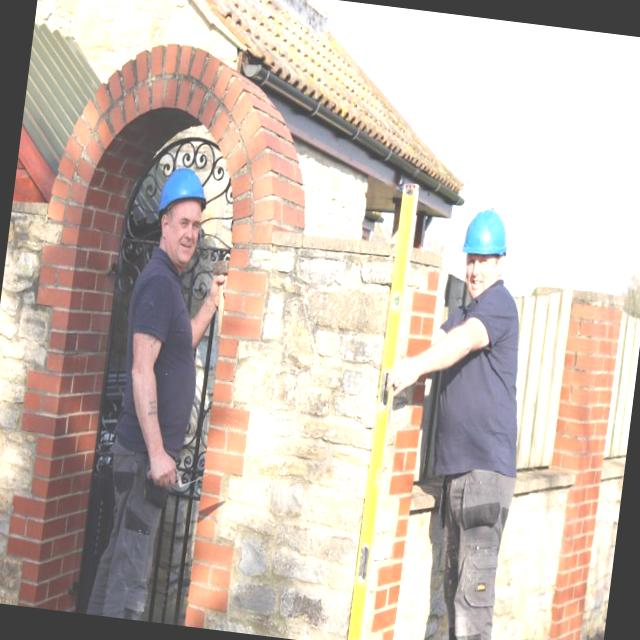helmet: (150, 160, 214, 227), (456, 204, 513, 274)
no-vest: (414, 280, 538, 508), (108, 245, 214, 490)
